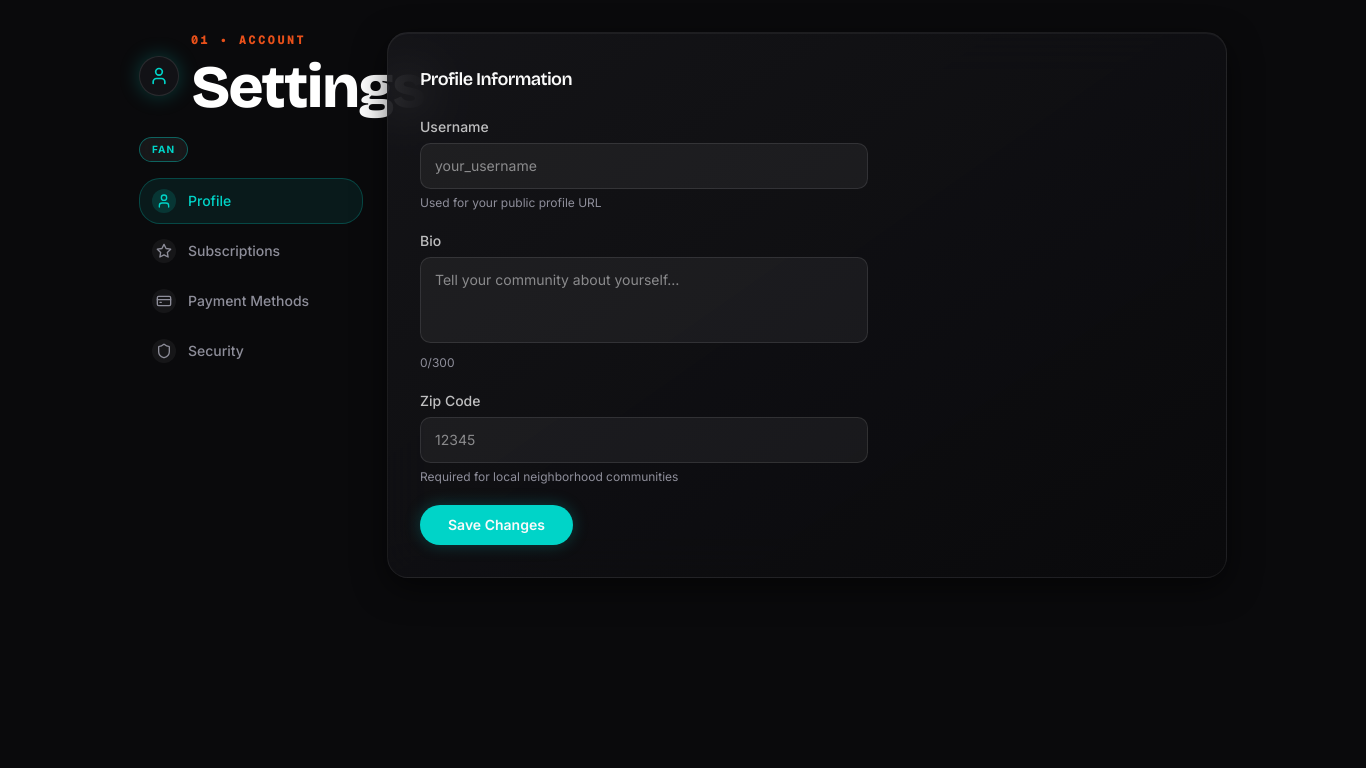
Test: SettingsView Payment Tab & Add Card Modal › opens Add Card modal when clicking Add Card button
Step 1. Click the button "Payment Methods" → [251, 301], box [139,278,363,324]
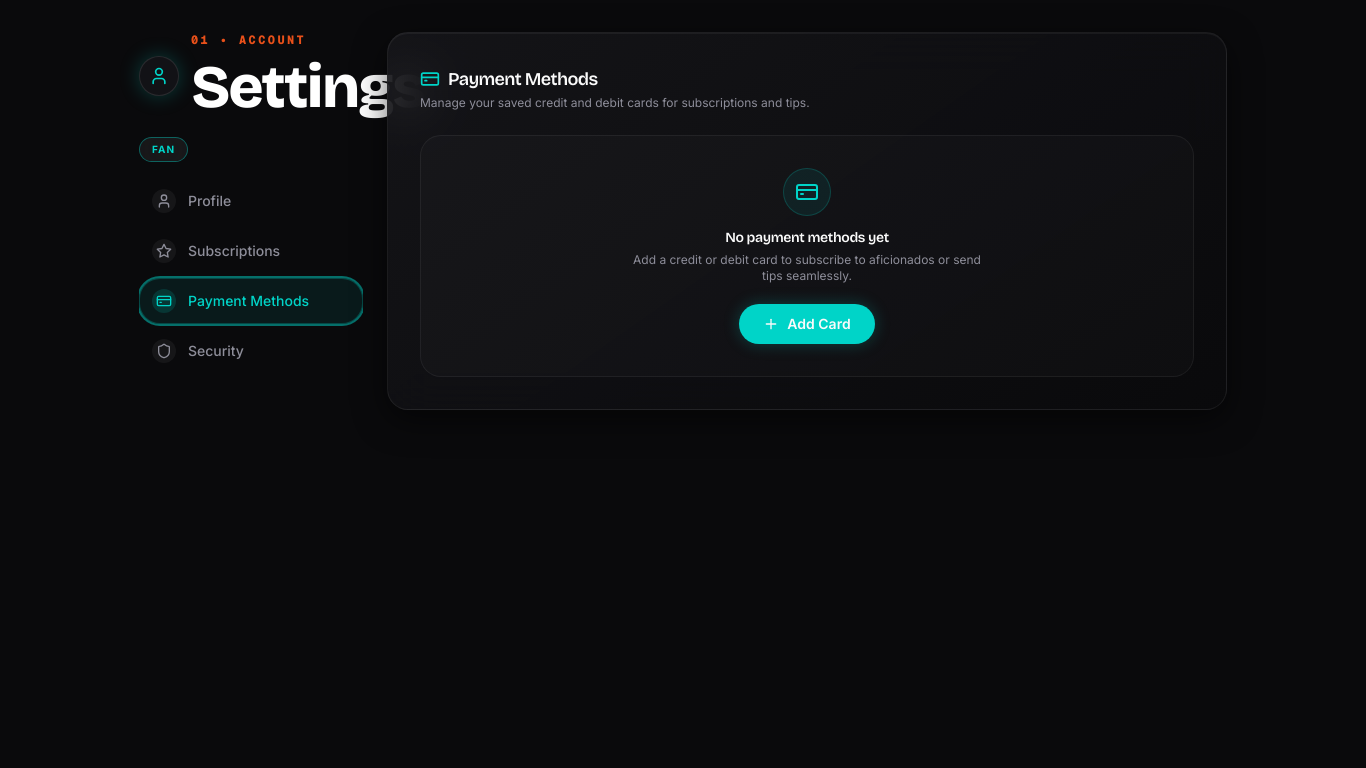
Step 2. Click the button "Add Card" → [807, 324], box [739,304,875,344]
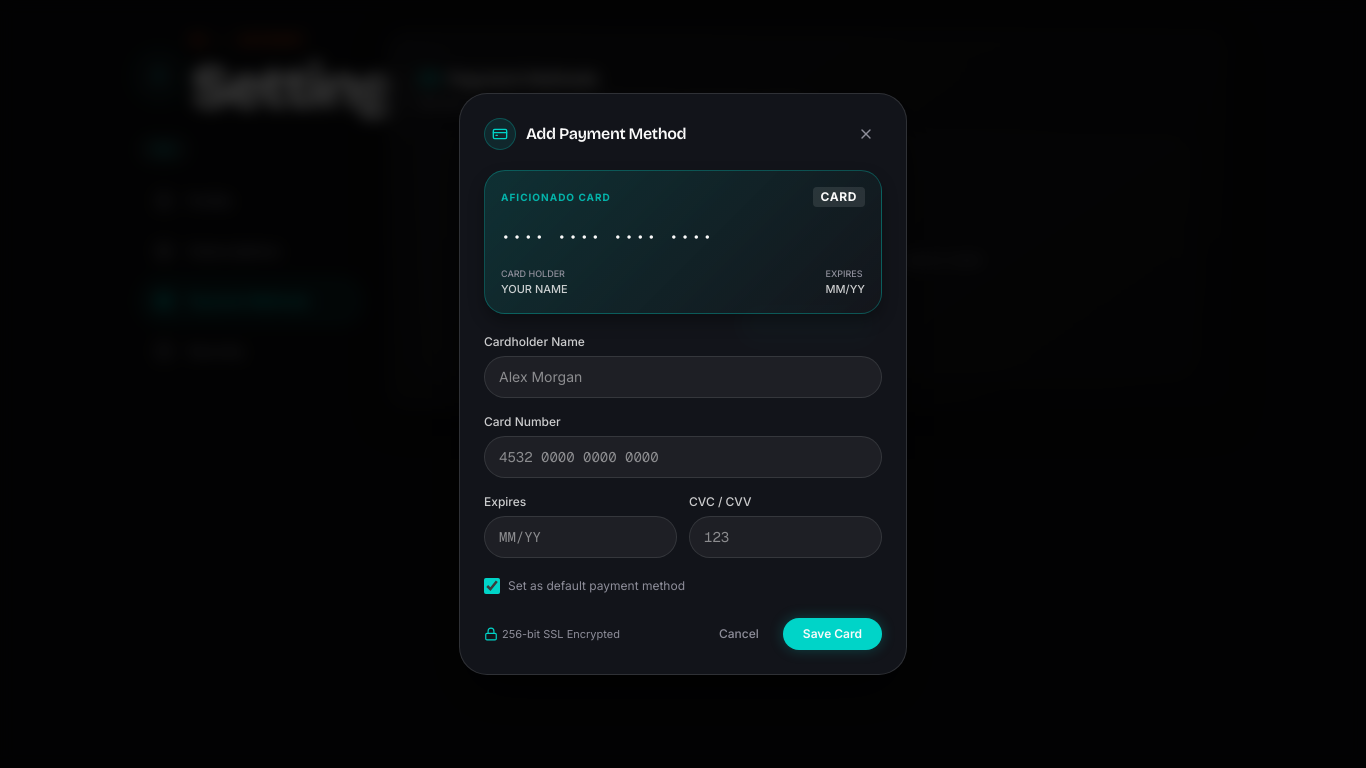
Now the heading "Add Payment Method" is shown, box [526,122,686,146]
Now the field with placeholder "Alex Morgan" is shown, box [484,356,882,398]
Now the field with placeholder "4532 0000 0000 0000" is shown, box [484,436,882,478]
